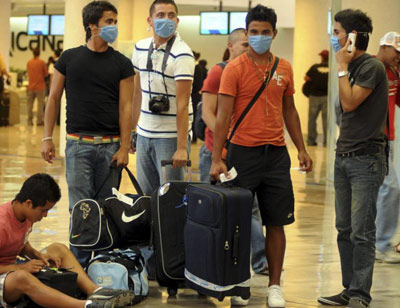mask: (150, 16, 184, 41), (246, 24, 274, 53), (97, 19, 125, 40), (329, 32, 352, 52)
